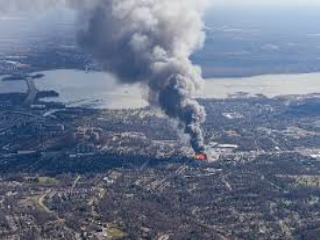fire: (195, 153, 211, 165)
smoke: (84, 3, 220, 148)
